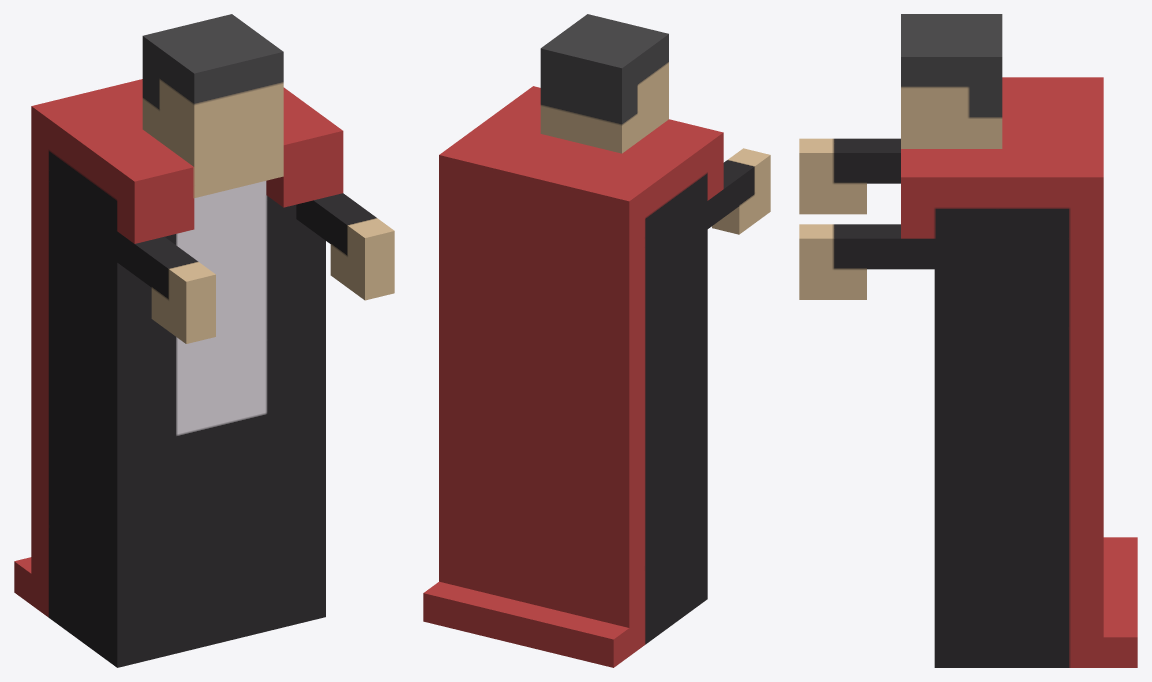
File: vampire.gltf
3 renders of one model, left to right at view 1: azimuth 30°, elevation 25°; view 2: azimuth 150°, elevation 25°; view 3: azimuth 270°, elevation 25°, orthographic. The views are drawn at different scales.
Visible parts, largest first — view 1: Vampire; view 2: Vampire; view 3: Vampire.
Part boxes in pixels (x1,y1,x2,y2): Vampire: (14,14,394,667); Vampire: (423,14,770,667); Vampire: (799,14,1137,667).
Bounding box in the file's own units: 0.42 × 1.14 × 0.6.
1 material, 1 textured.
